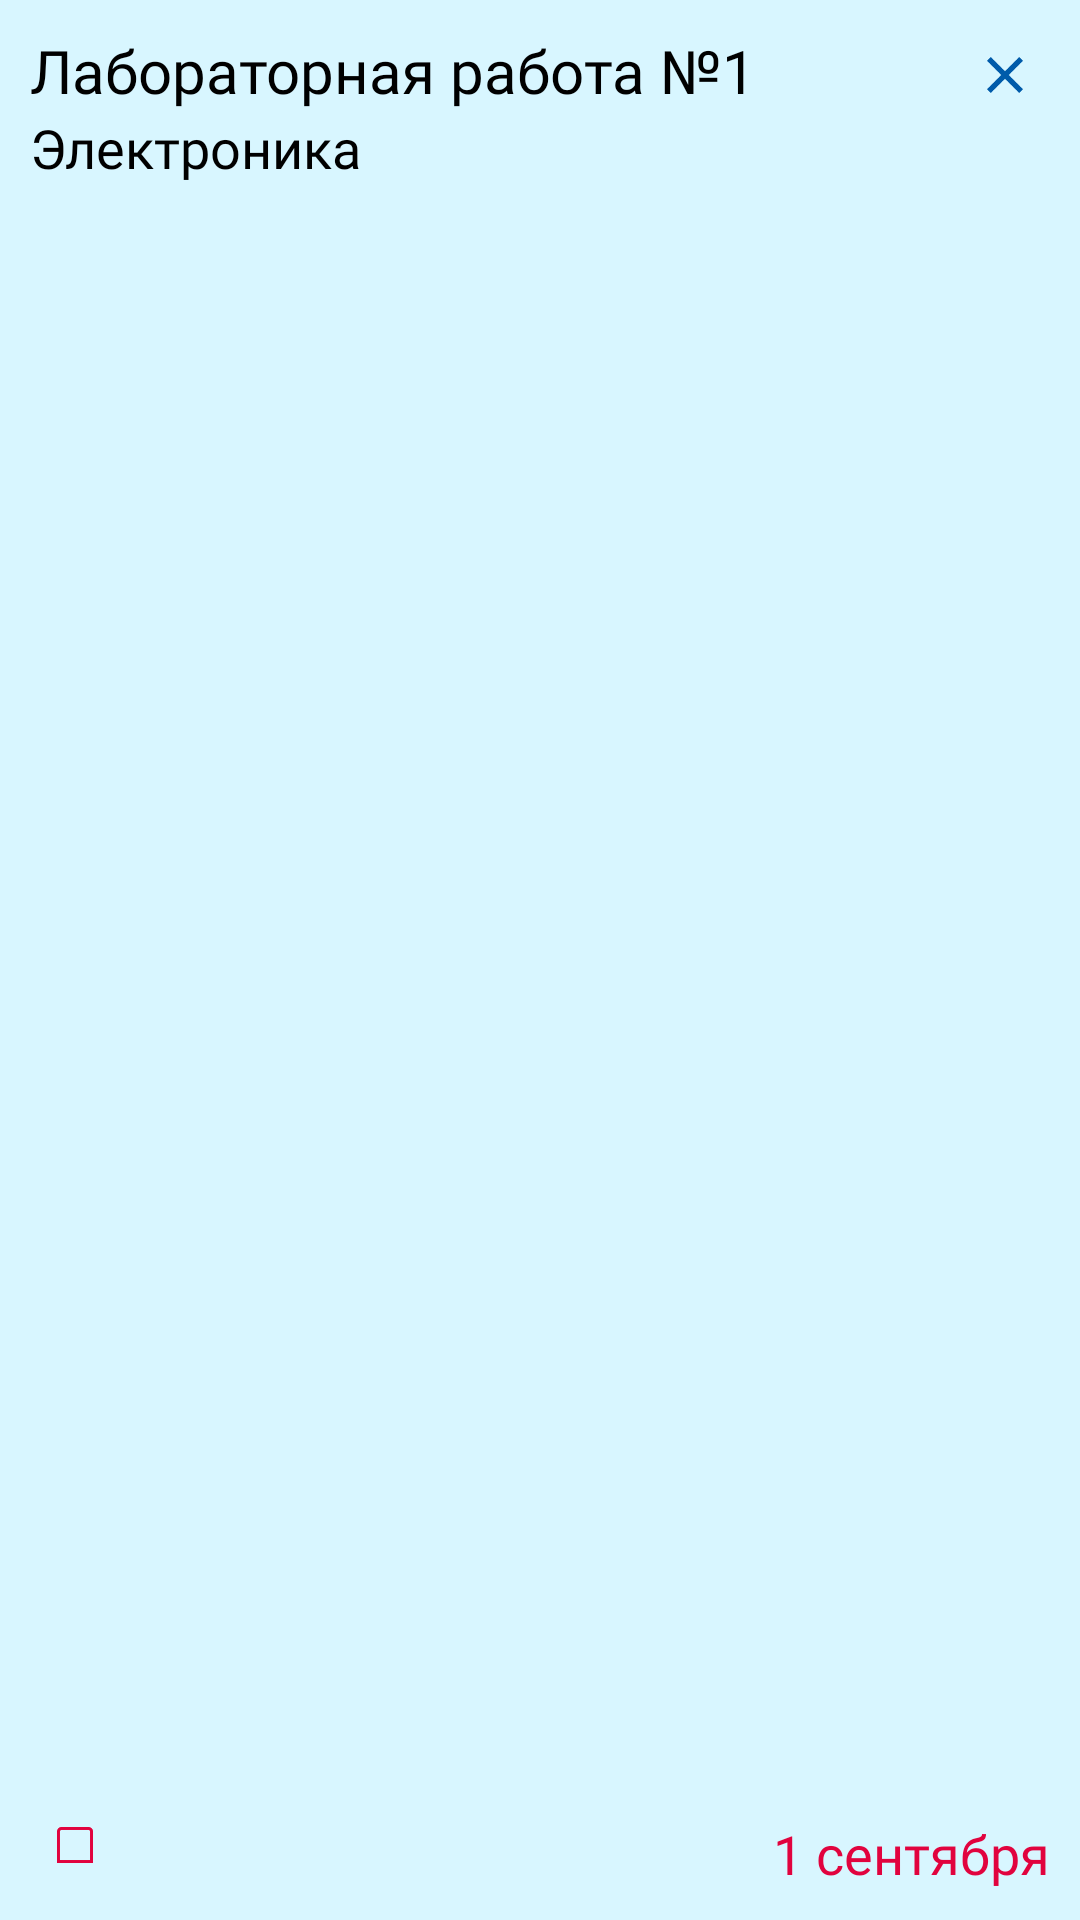

Locate icon controls on the screen. Image size 1080px x 1920px, boxes as (x1, y1, x2, y2).
close: (987, 57, 1023, 93)
undone deadline: (57, 1827, 93, 1863)
